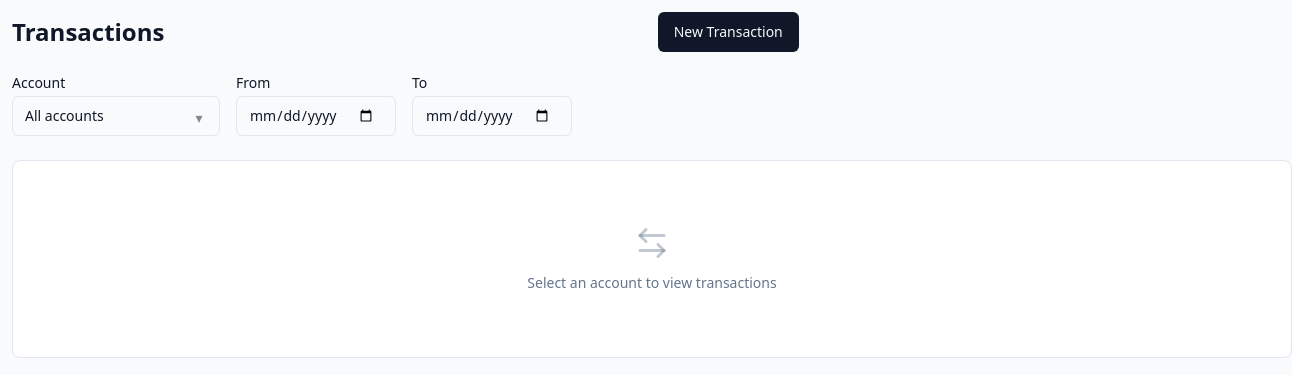
Test: Transactions page › populates account filter Select from accounts query
What coordinates should you click on to do the following:
click the dropdown labelled "All accounts ▾"
I would click on:
 (116, 116)
Its box is left=12, top=96, right=220, bottom=136.
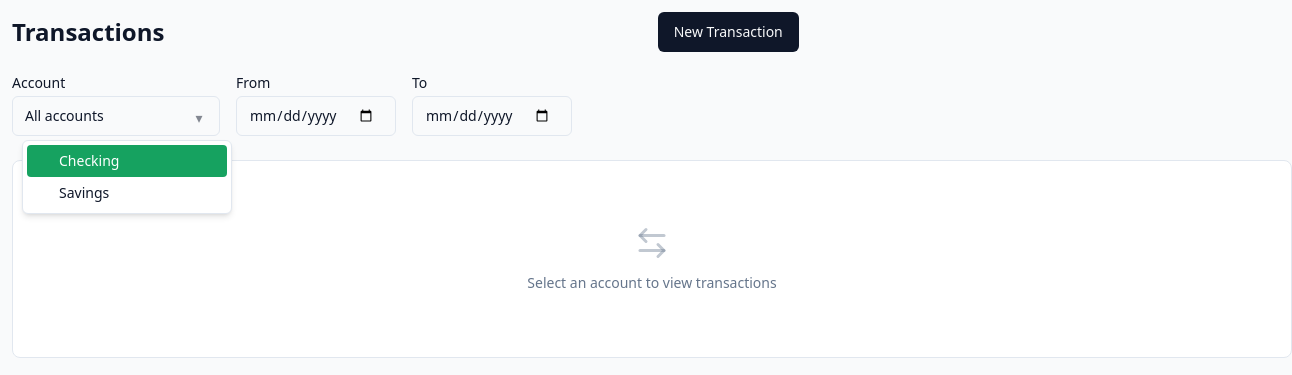
Expected: the text "Checking" is shown, left=59, top=151, right=120, bottom=171
Expected: the text "Savings" is shown, left=59, top=183, right=109, bottom=203
